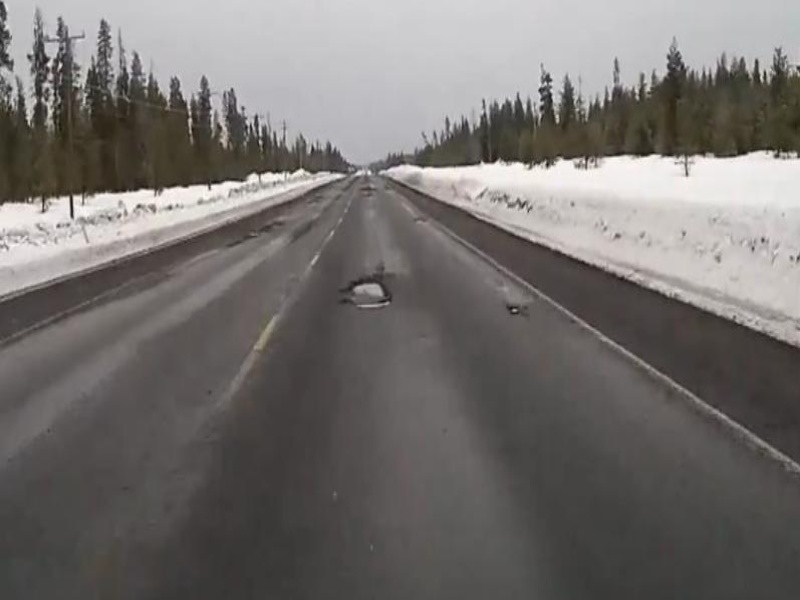pothole: (343, 277, 393, 313)
